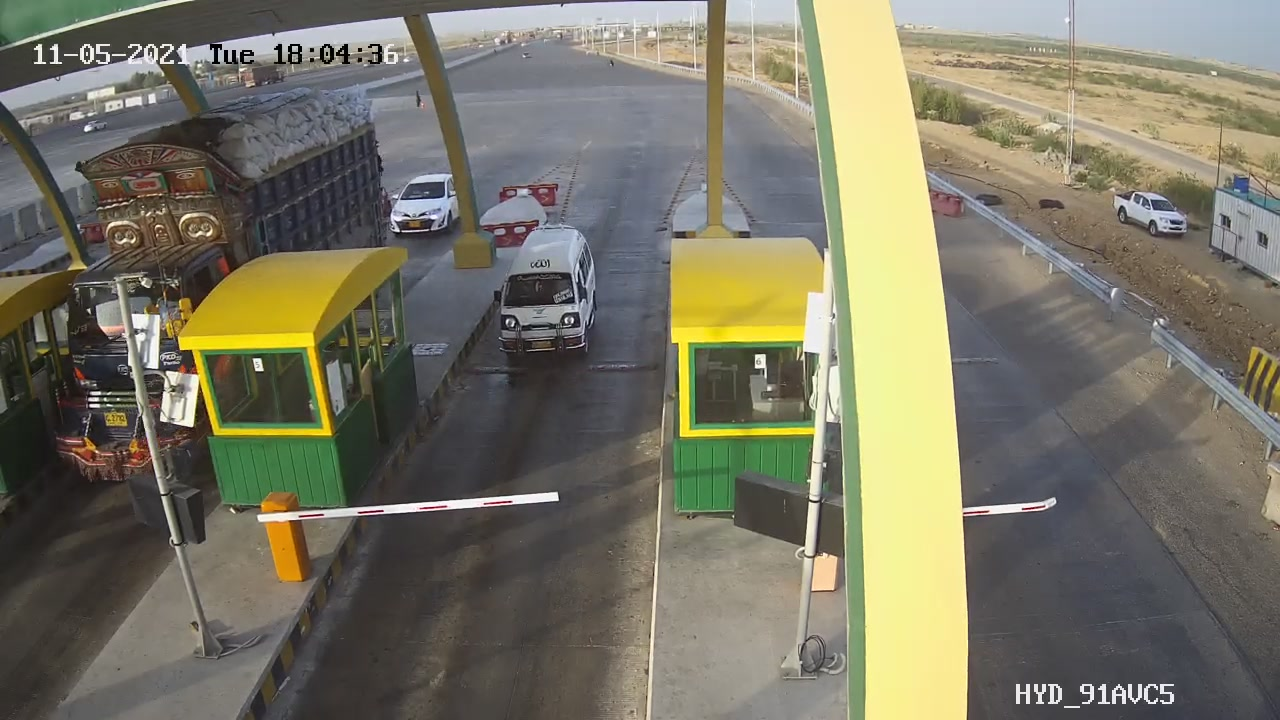F1: (475, 209, 626, 375)
